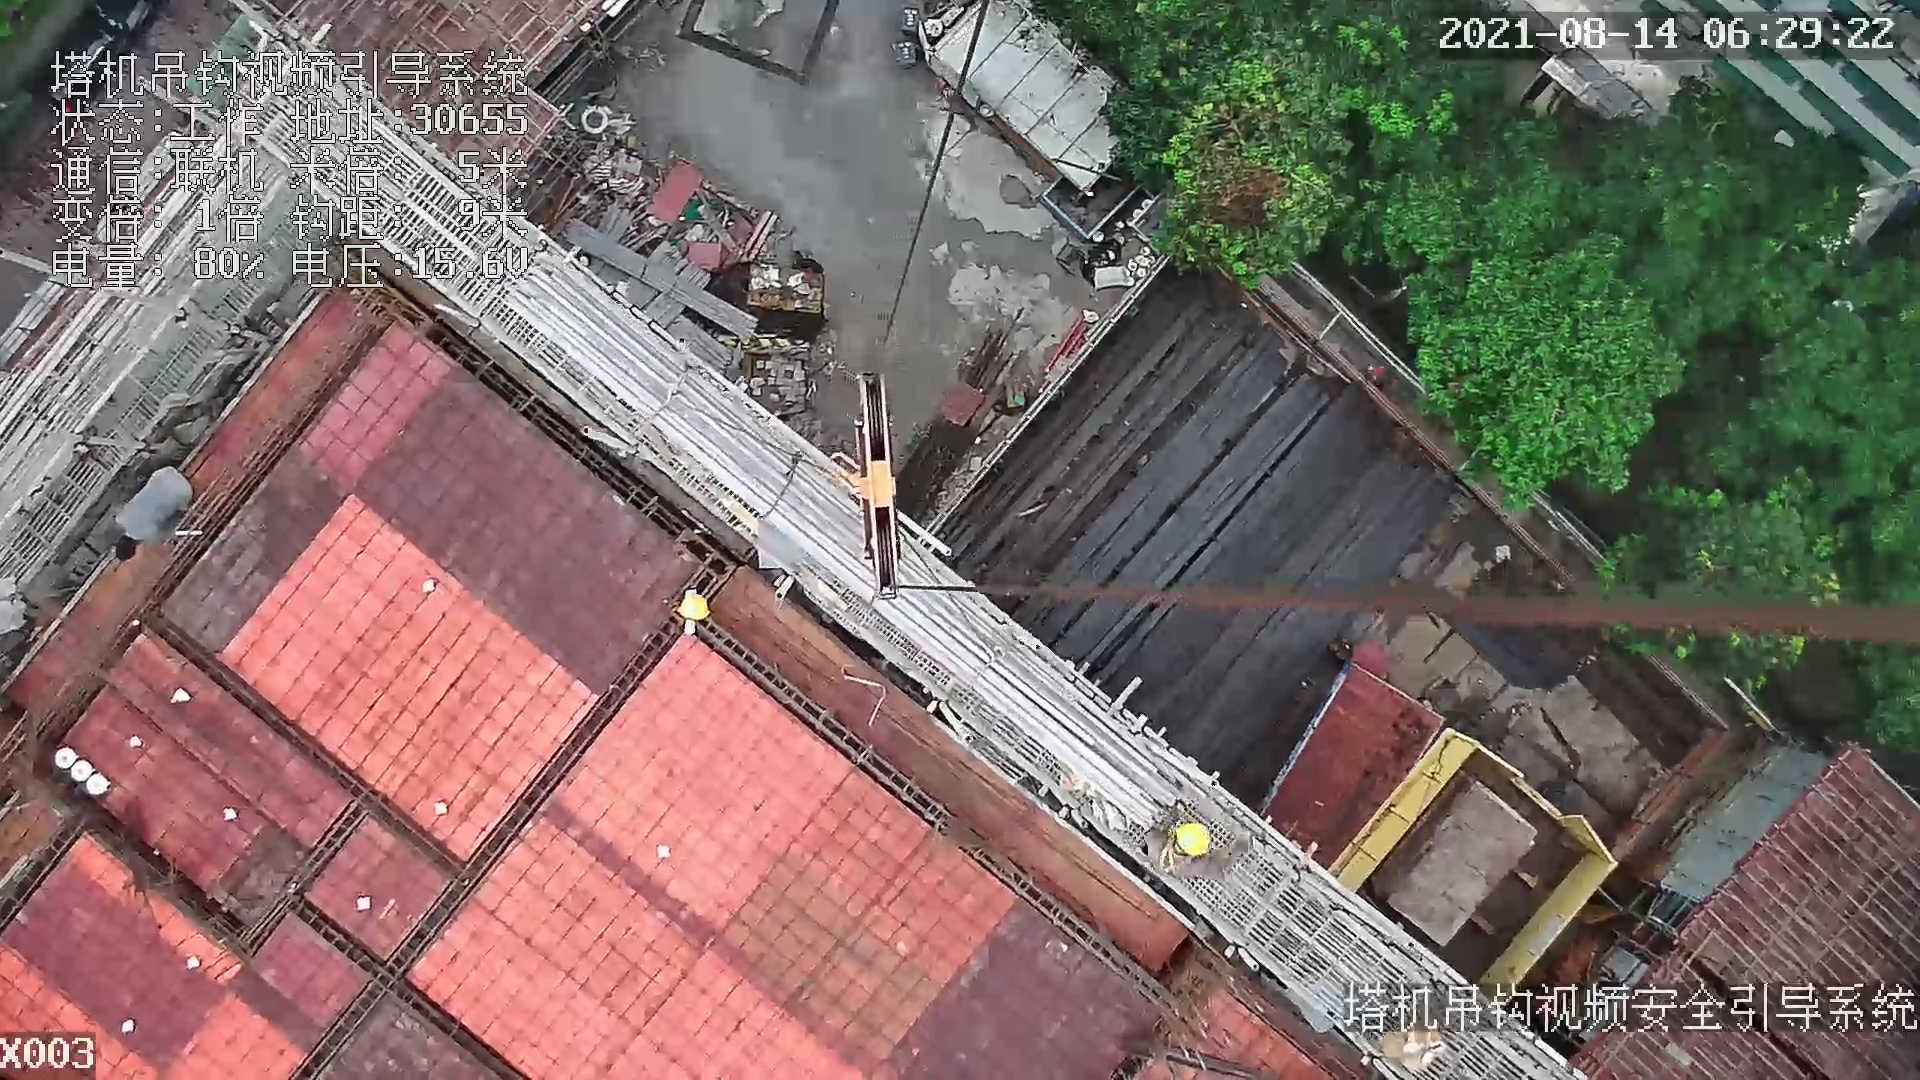helmet: (1165, 819, 1220, 863), (668, 590, 715, 628)
hook: (844, 368, 905, 599)
person: (1142, 796, 1254, 882)
rebar: (964, 271, 1472, 750)
